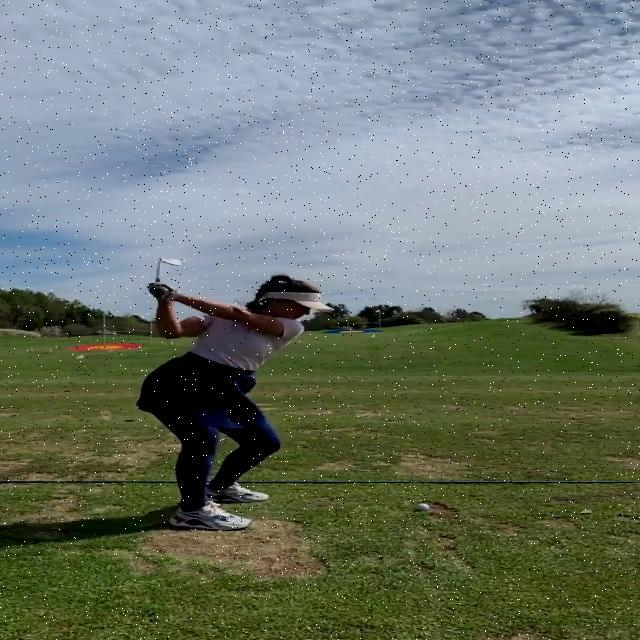ClubHandle: (150, 256, 183, 294)
ClubHead: (158, 257, 182, 266)
GolfBall: (417, 504, 430, 510)
